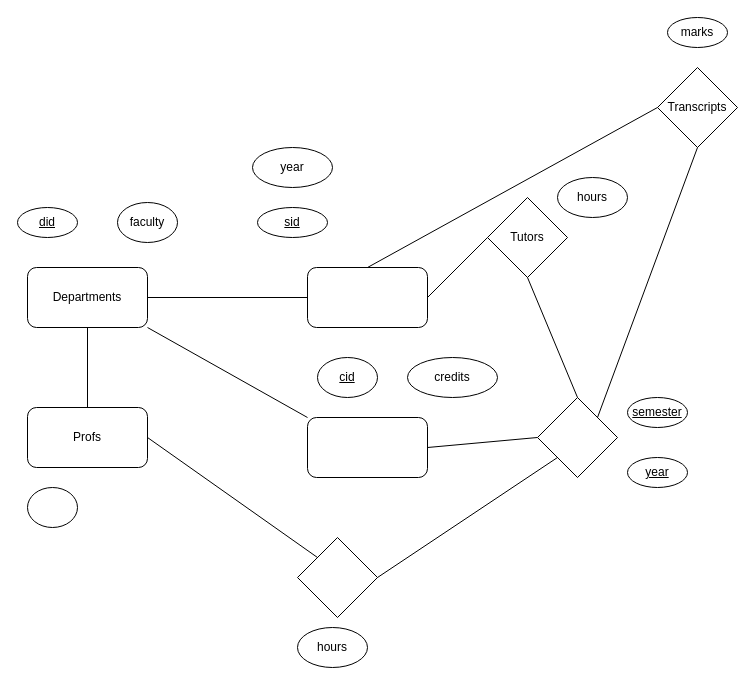
The diagram is 755 pixels wide and 685 high, and some of its shapes have lost their labels. Each missing label, with the centre of its shape:
"Courses" goes at [367,447].
"Offerings" goes at [577,437].
"pid" goes at [52,507].
"Students" goes at [367,297].
"Teaches" goes at [337,577].
